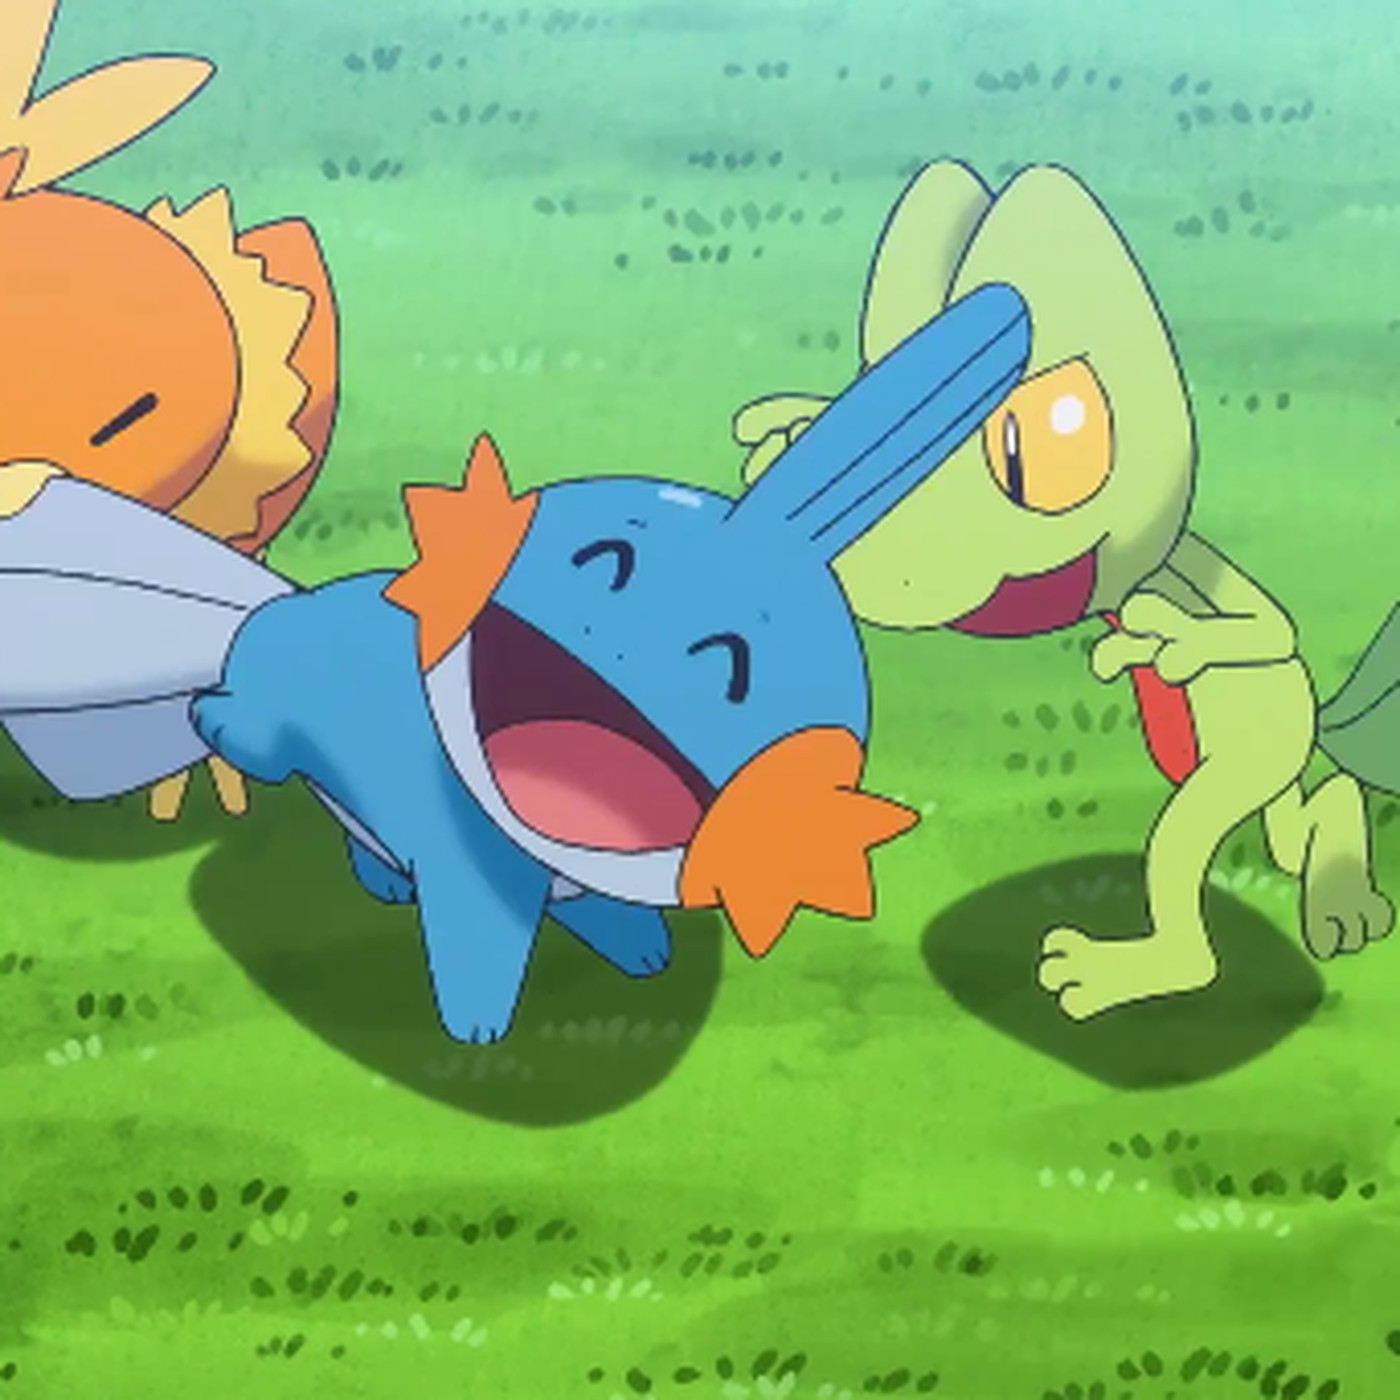mudkip: (1, 254, 1038, 1103)
